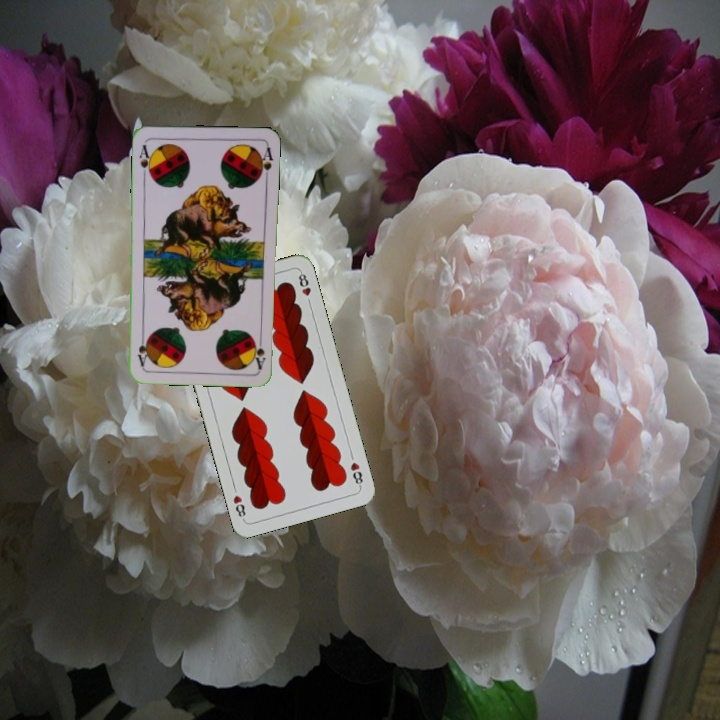H8: (346, 458, 365, 490)
SA: (135, 141, 155, 179), (249, 331, 268, 371)
